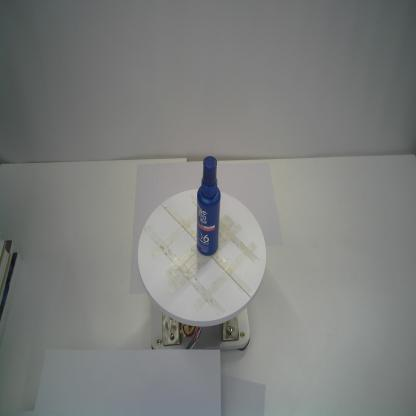Personal Hygiene: (196, 154, 221, 256)
